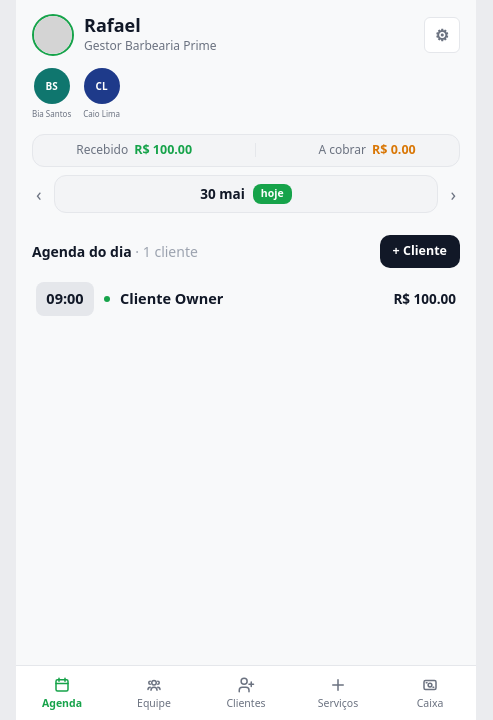
Test case: AppPage barber avatar row › selects an external barber and can return to the user agenda
Click the button "BS Bia Santos". click: (52, 94)
box: 32,68 -> 71,120
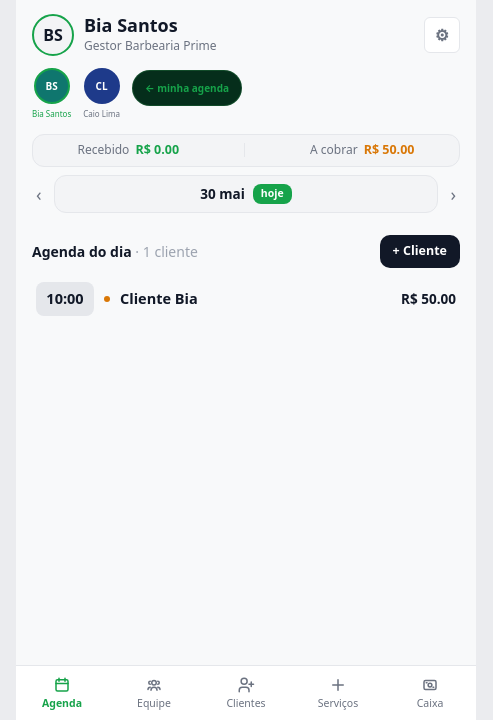
Check: the text "R$ 50.00" is shown, box 401,289 -> 456,309
Click the button "← minha agenda". click: (187, 88)
box: 132,70 -> 242,106
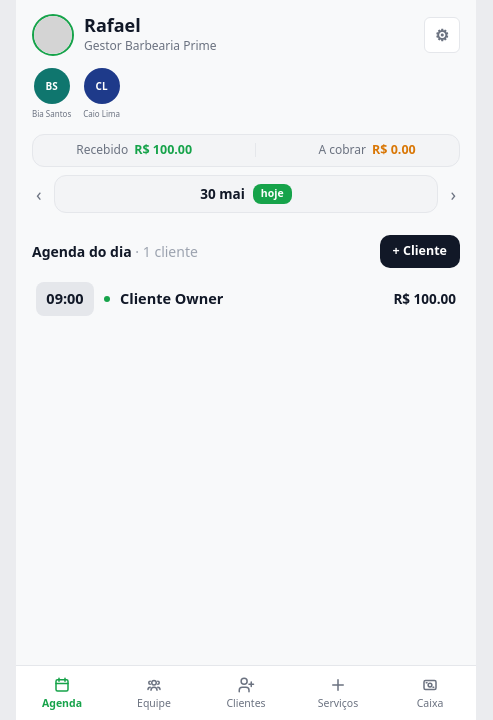
Check: the button "minha agenda" is gone
